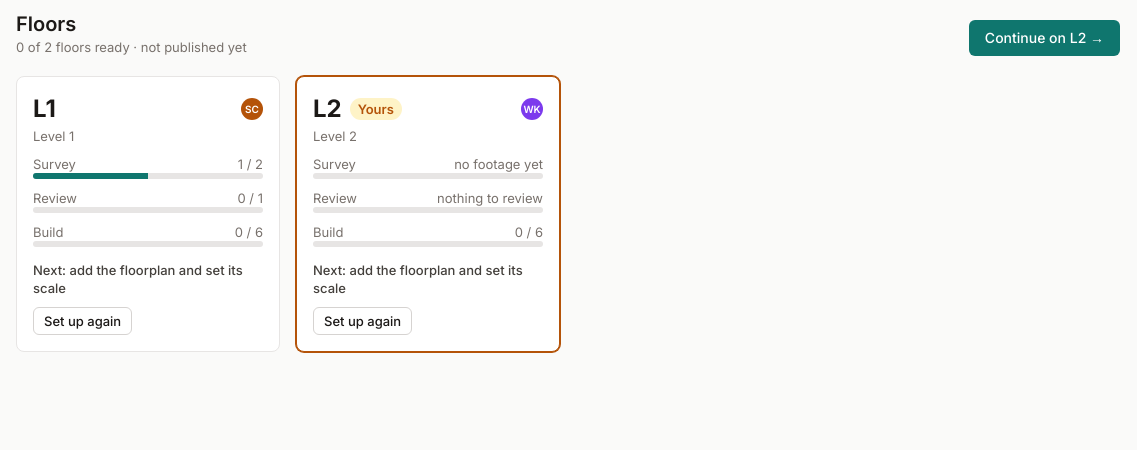
Scenario: FloorsHome — setting a floor up › leaves a finished floor as it is when you cancel Set up again
Click the button "Set up again" below "0 / 1". click: [83, 321]
box: [33,307,132,335]
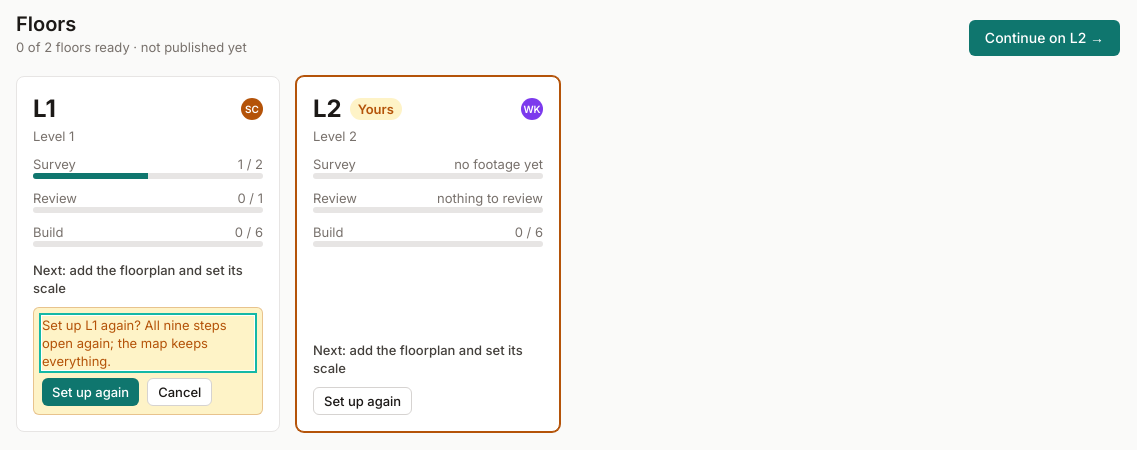
Click the button "Cancel". click: [180, 392]
box: [147,378,212,406]
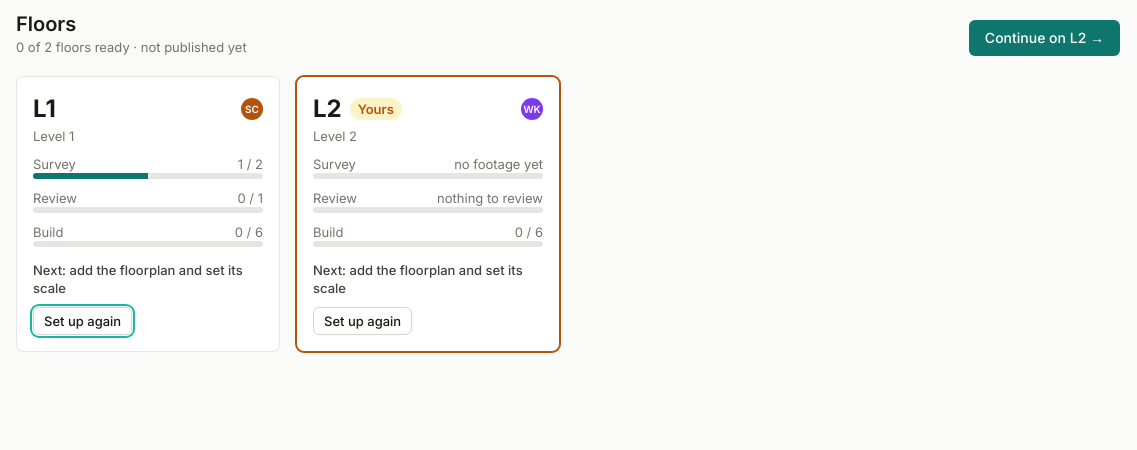
Expected: the button "Set up again" below "0 / 1" is shown, [33,307,132,335]
Expected: the text "Set up L1 again?" is gone
